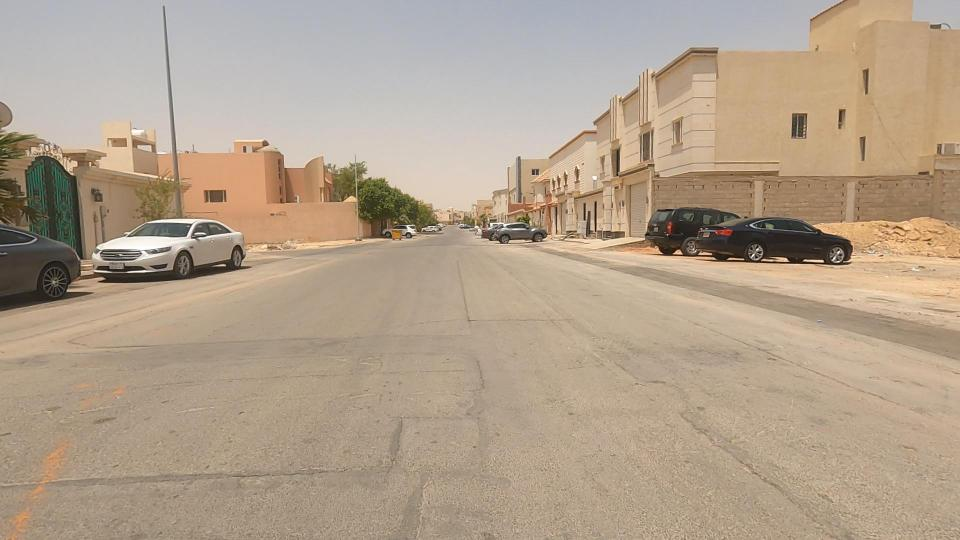SAND_ON_ROAD: (779, 167, 960, 303)
